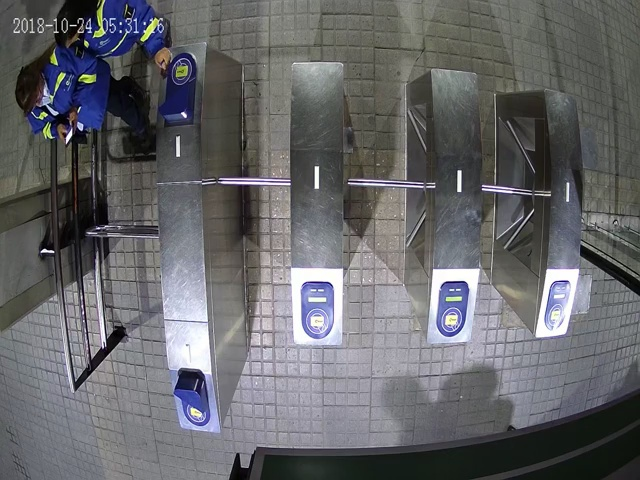Chaleco_azul: (15, 41, 149, 143), (53, 1, 172, 73)
